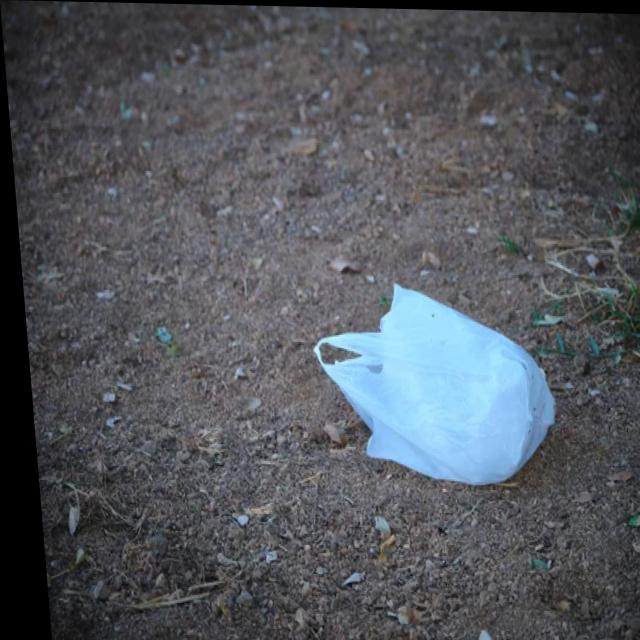Plastic: (296, 278, 564, 496)
